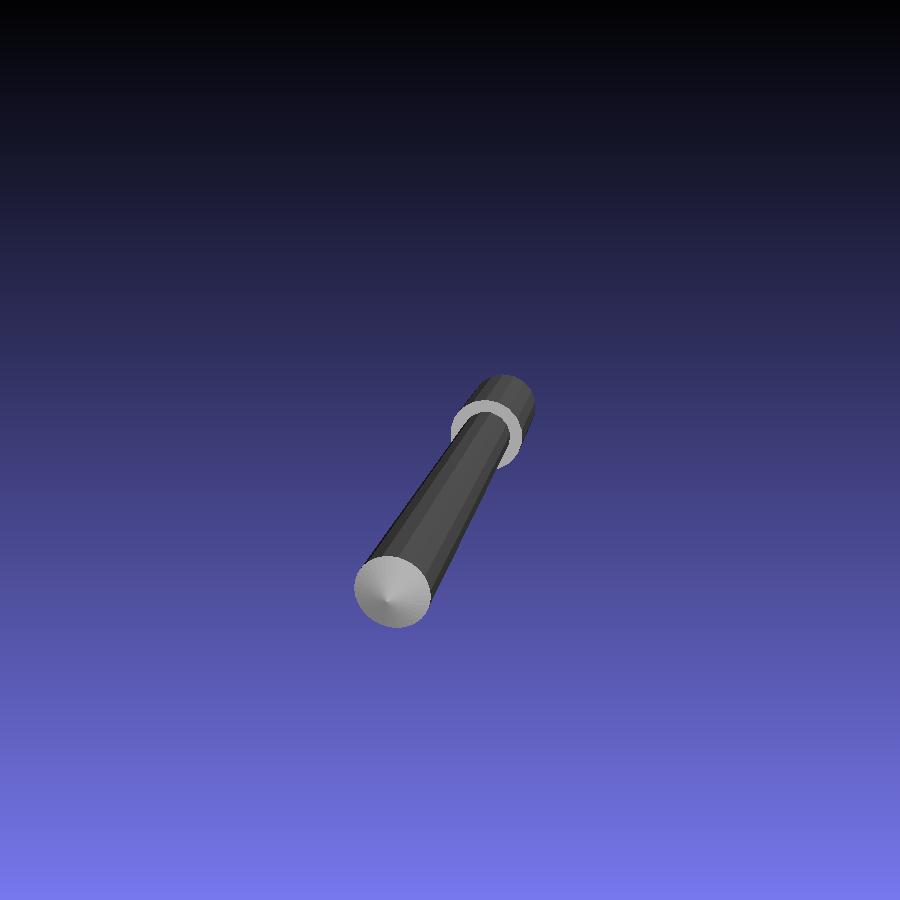cargo_g: (355, 372, 535, 630)
